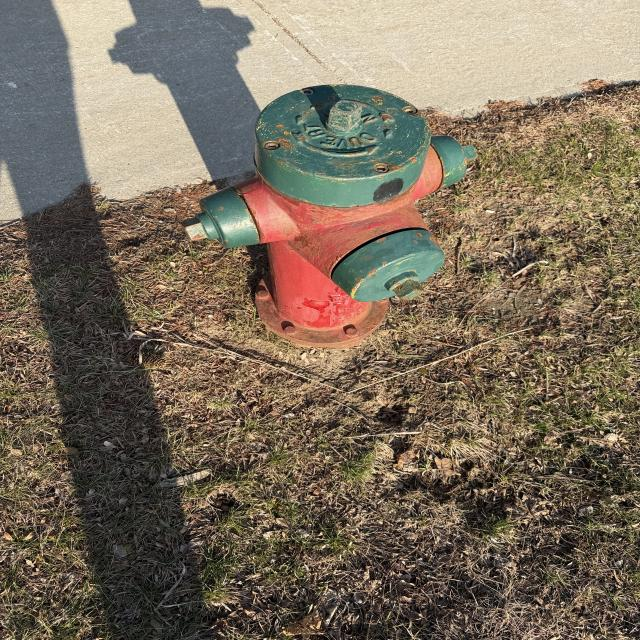Fire hydrant: (180, 84, 478, 349)
